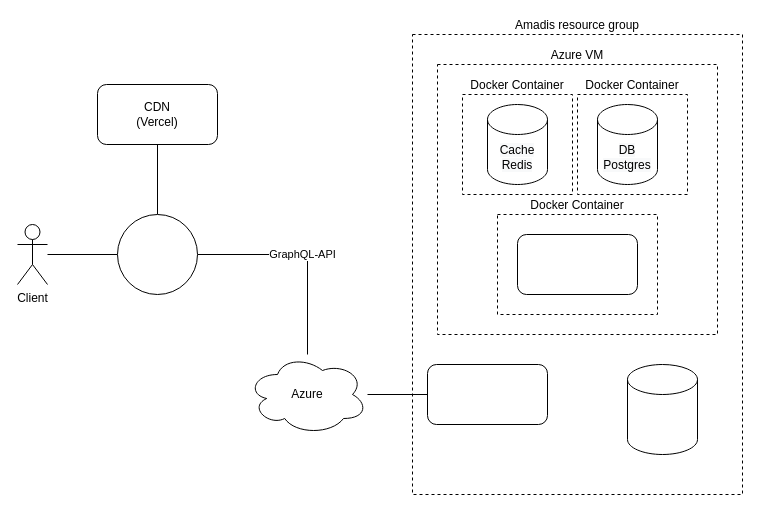
Some shapes in this 760 by 512 pixel diagram are drawn without their labels. The shapes that lost their labels are listed below. From the top down, each one's centre as x and y in pixels, then its label:
At [157,254]: "DNS (namecheap)".
At [577,264]: "BACKEND".
At [487,394]: "pulic IP".
At [662,409]: "Image Blob Storage".
